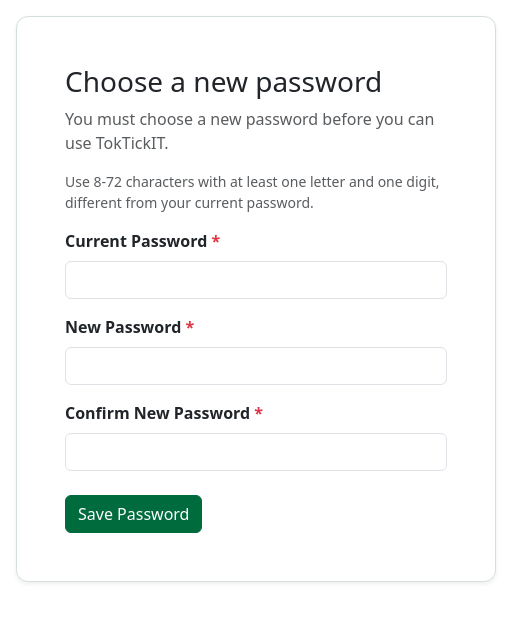
Change Password › shows the server message next to the current password field
Type "WrongPass999" into the password field labelled "Current Password *".
click(256, 280); type("WrongPass999")  # box [65,261,447,299]
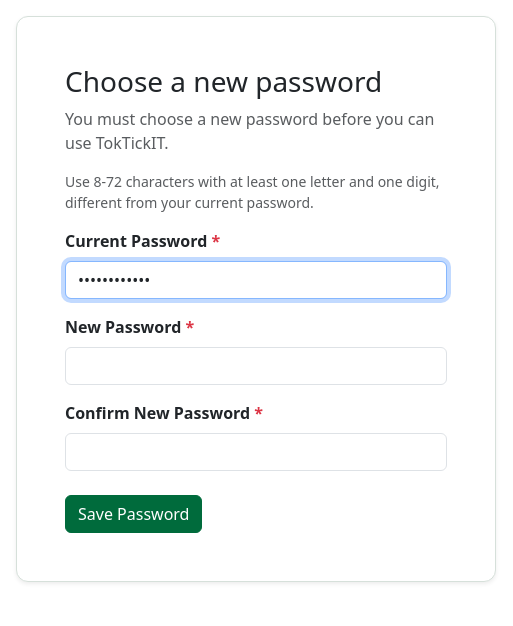
Type "Sunrise2026" into the password field labelled "New Password *".
click(256, 366); type("Sunrise2026")  # box [65,347,447,385]
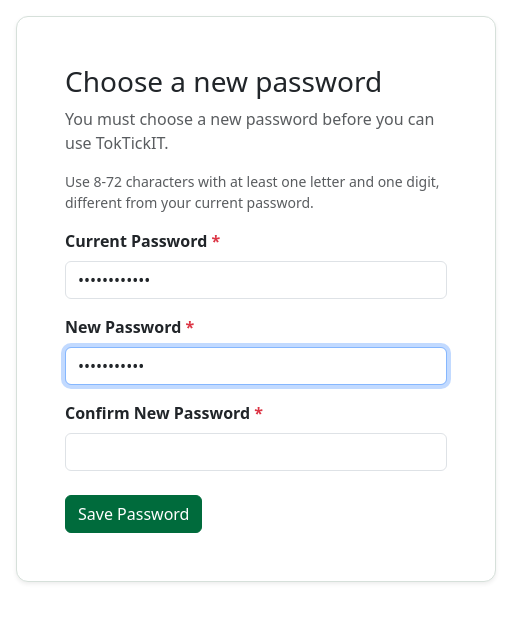
Type "Sunrise2026" into the password field labelled "Confirm New Password *".
click(256, 452); type("Sunrise2026")  # box [65,433,447,471]
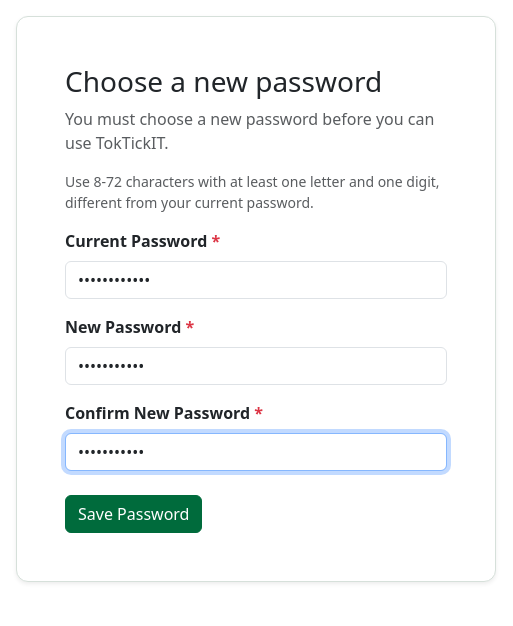
Click the button "Save Password".
click(134, 514)  # box [65,495,202,533]
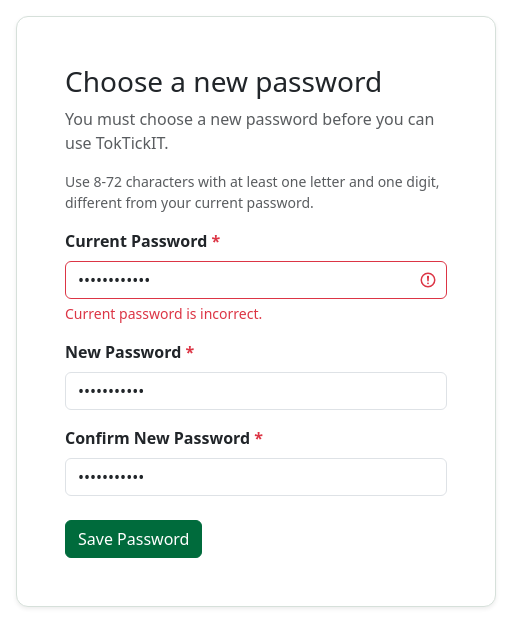
Expected: the button "Save Password" is enabled, [65,520,202,558]
Expected: the text "Current password is incorrect." is shown, [65,304,262,323]
